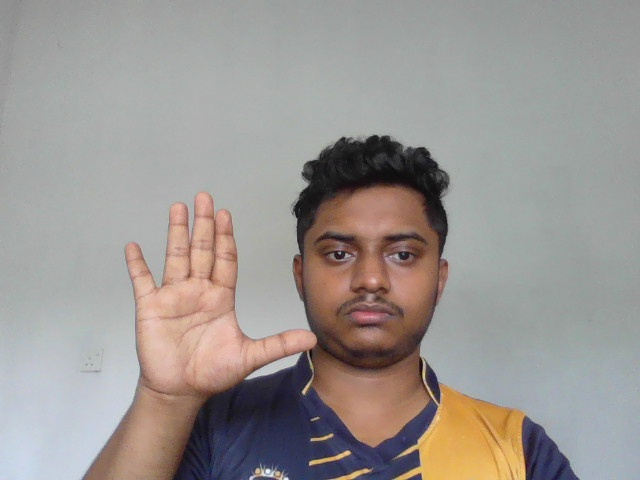Hello: (122, 189, 320, 403)
